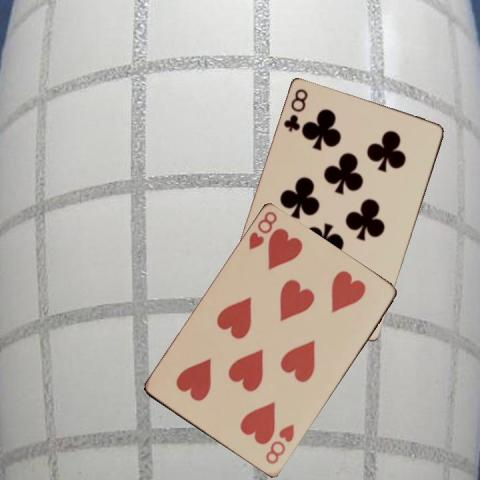8c: (281, 86, 310, 134)
8h: (262, 421, 296, 466), (245, 208, 279, 252)
